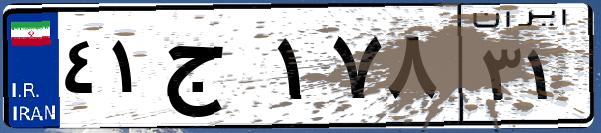1: (270, 28, 330, 110), (525, 38, 570, 115), (110, 28, 158, 98)
3: (475, 38, 525, 113)
4: (57, 26, 110, 100)
7: (330, 28, 385, 110)
8: (385, 28, 445, 110)
ج: (158, 20, 270, 120)
